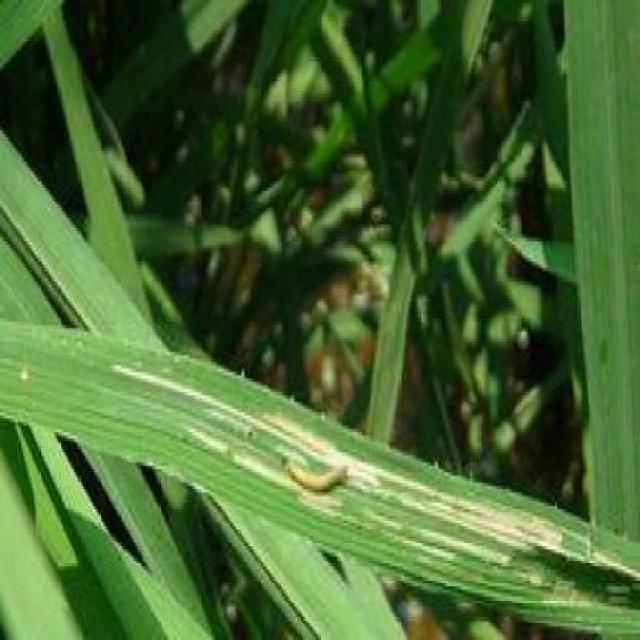leaf-folder: (282, 436, 363, 504)
